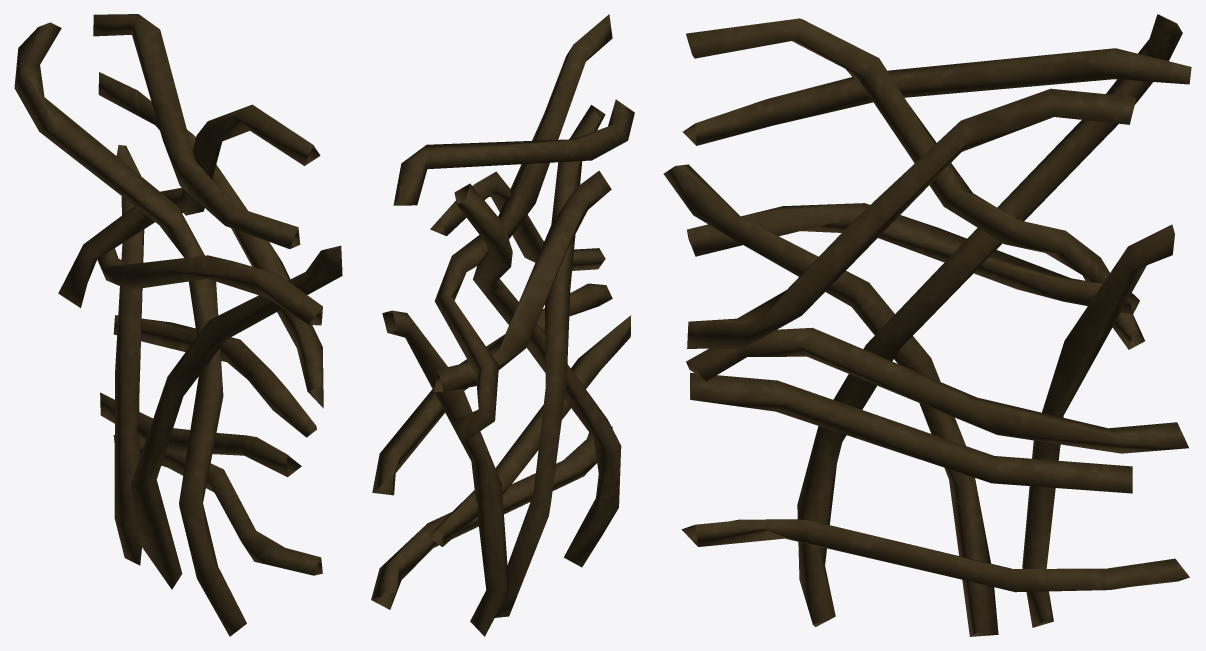
3 views of the same model, side by side, from view 1: azimuth 30°, elevation 25°; view 2: azimuth 150°, elevation 25°; view 3: azimuth 270°, elevation 25° (orthographic). The views are drawn at different scales.
Visible parts, largest first — view 1: FF_P2_Compressed; view 2: FF_P2_Compressed; view 3: FF_P2_Compressed.
Part boxes in pixels (left/top/right/bottom): FF_P2_Compressed: left=14, top=14, right=342, bottom=636; FF_P2_Compressed: left=371, top=14, right=634, bottom=636; FF_P2_Compressed: left=663, top=14, right=1191, bottom=636.
Bounding box in the file's own units: 83.65 × 282 × 217.
Materials: 1 (1 with a texture image).
